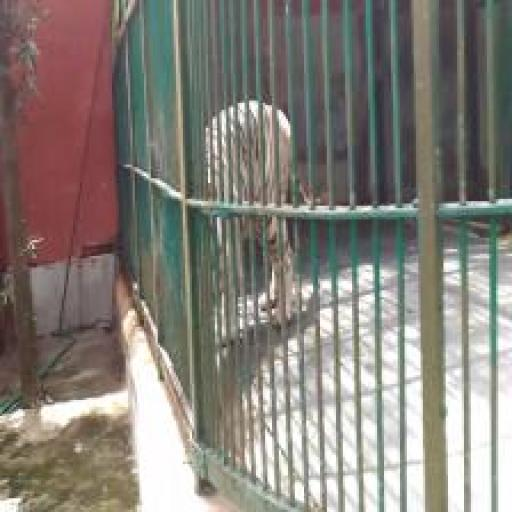Tiger: (203, 103, 311, 348)
